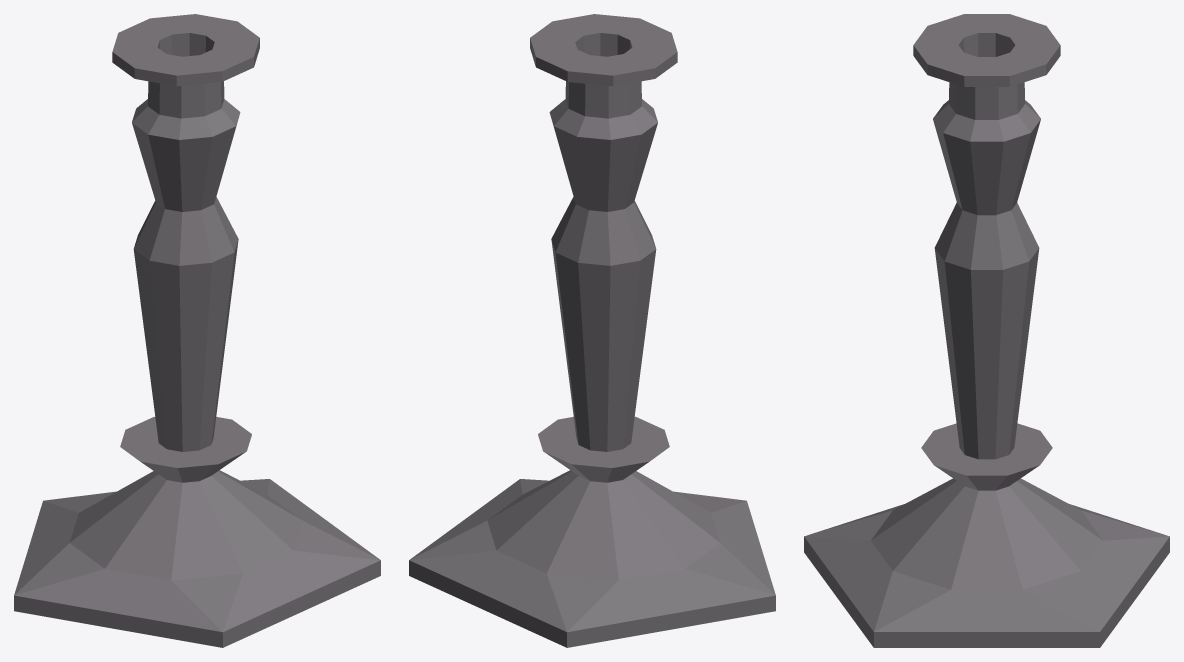
File: candlestick03.gltf
3 renders of one model, left to right at view 1: azimuth 30°, elevation 25°; view 2: azimuth 150°, elevation 25°; view 3: azimuth 270°, elevation 25°, orthographic.
Parts seen in each view (by area): view 1: Cylinder; view 2: Cylinder; view 3: Cylinder.
Part boxes in pixels (<box>): Cylinder: <box>14,14,380,647</box>; Cylinder: <box>409,14,775,647</box>; Cylinder: <box>804,14,1169,647</box>.
Size of the model in its own units: 0.1208 by 0.1944 by 0.1208.
Materials: 1 (1 with a texture image).
